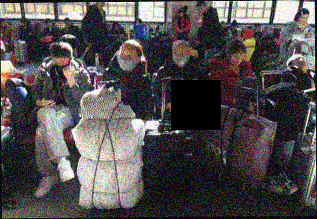with_mask: (116, 48, 139, 71), (171, 49, 191, 69), (51, 58, 69, 75), (135, 20, 141, 27)
without_mask: (228, 50, 246, 66), (291, 55, 309, 71), (299, 14, 310, 24), (197, 5, 203, 15), (45, 21, 52, 29), (19, 19, 25, 28), (1, 20, 9, 26), (178, 9, 183, 17), (220, 23, 226, 29), (65, 21, 71, 27), (255, 24, 260, 31), (114, 25, 119, 31), (232, 25, 237, 30)
